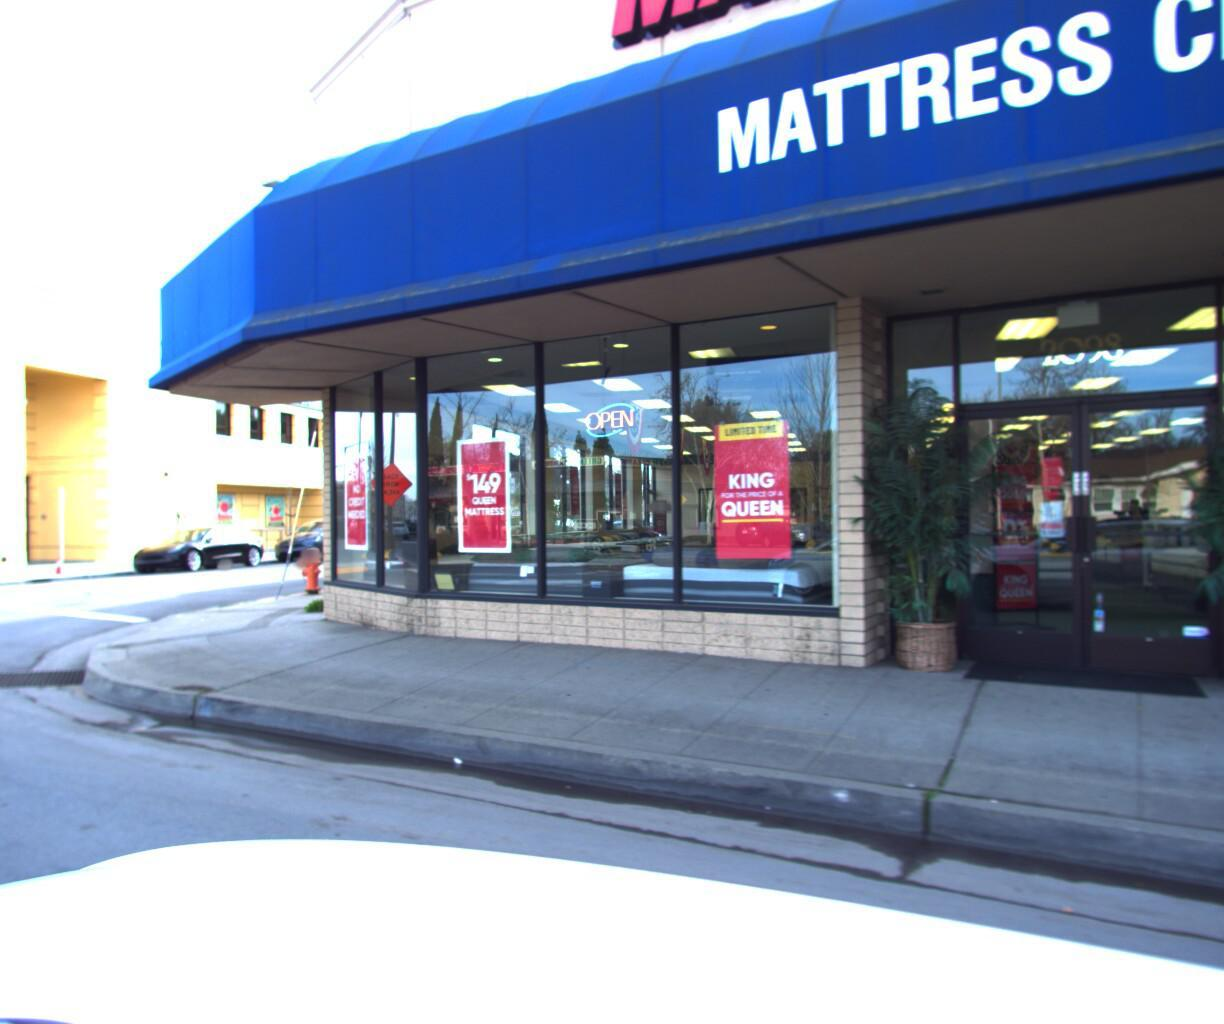car: (120, 520, 272, 575), (263, 513, 381, 559)
